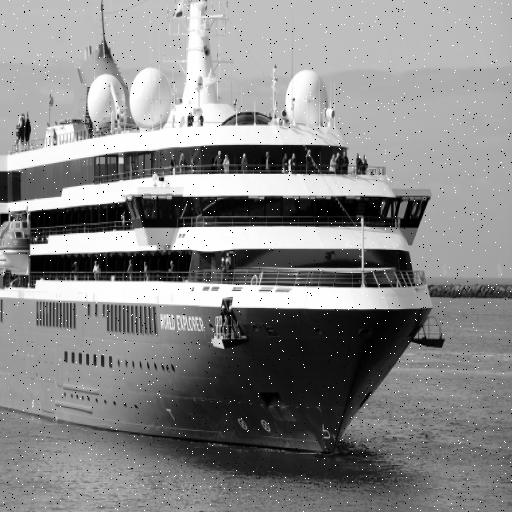cruises: (1, 1, 437, 473)
